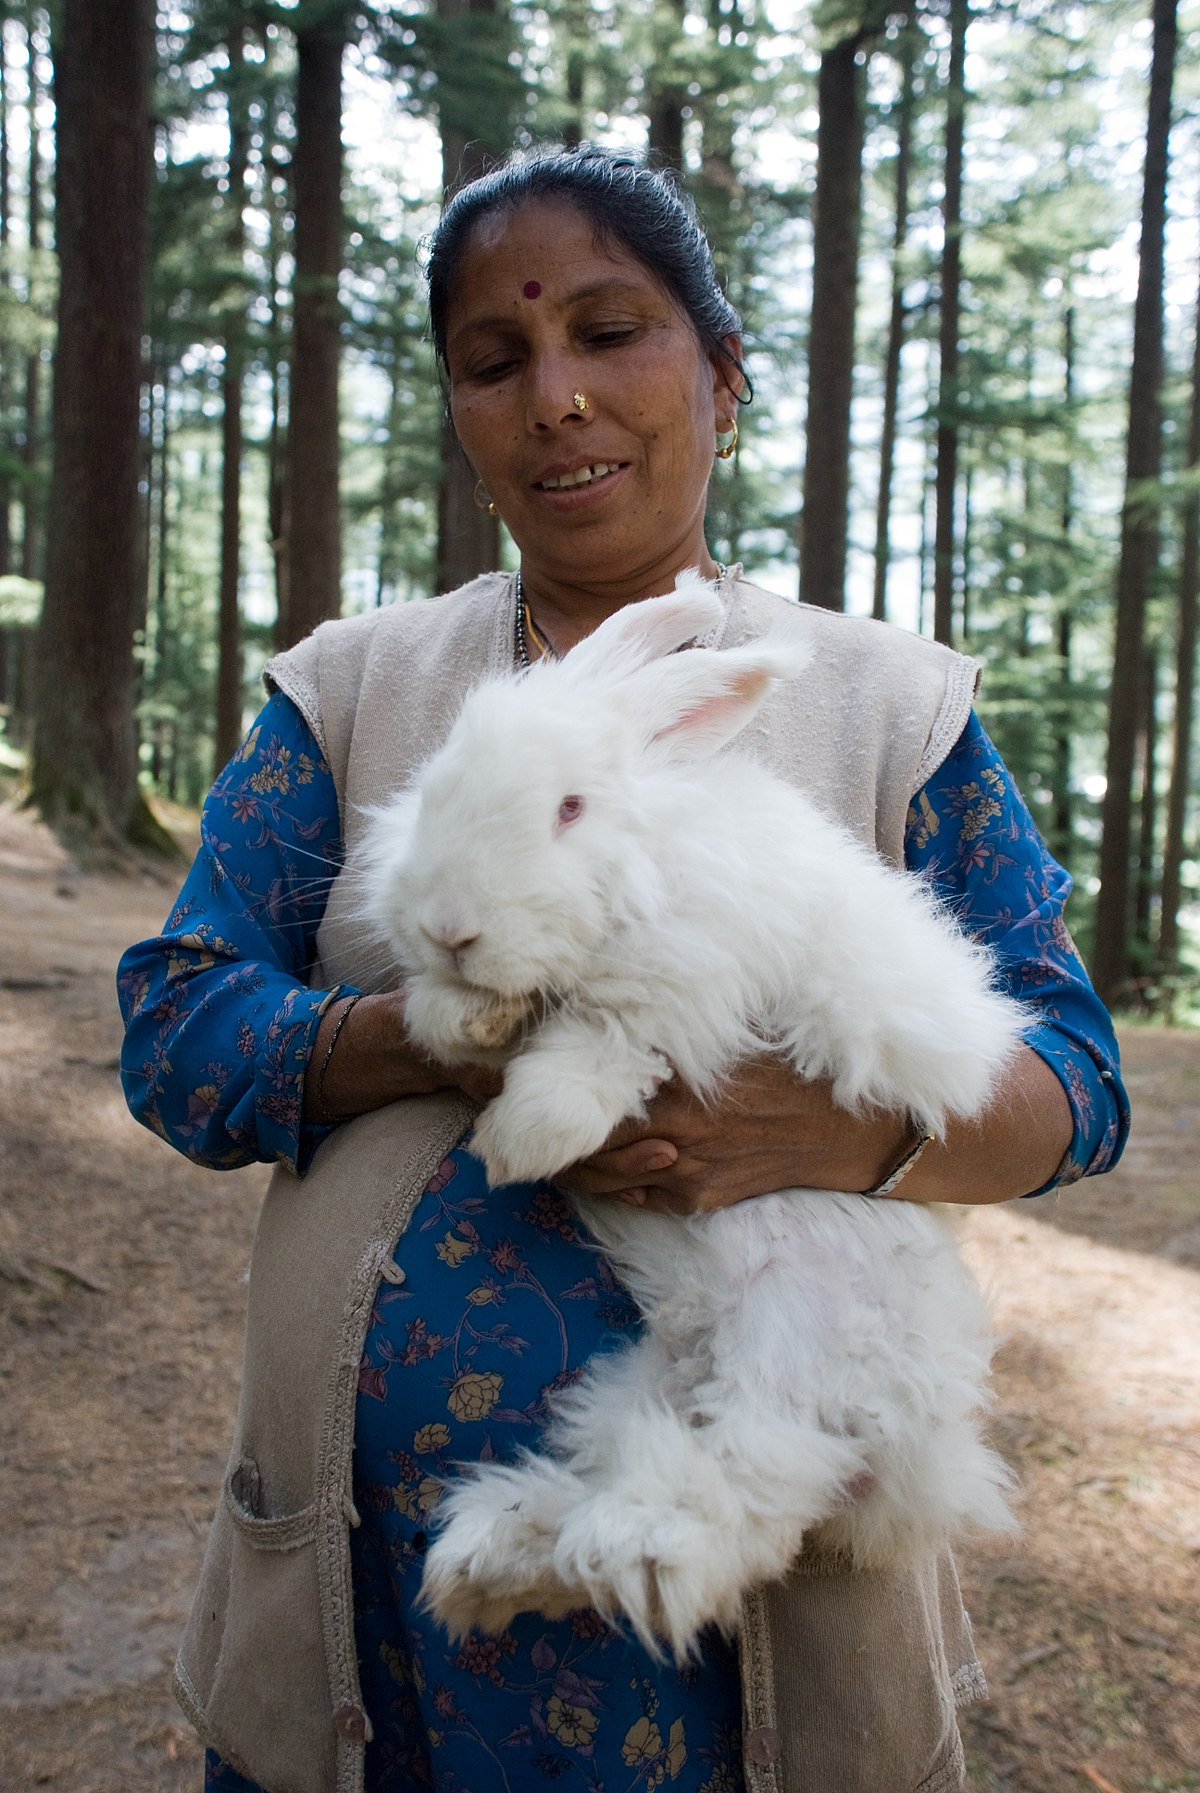bunny: (312, 564, 1071, 1668)
